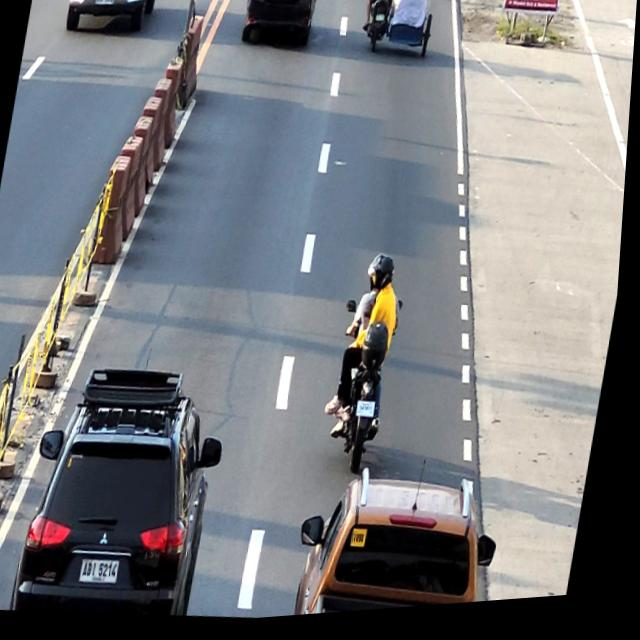Car: (19, 354, 244, 630), (293, 460, 516, 621), (240, 0, 320, 57), (61, 0, 160, 44)
License-Plate: (87, 559, 128, 586), (361, 406, 381, 425), (94, 0, 114, 7), (375, 19, 385, 27), (275, 0, 291, 1)
Motorcycle: (324, 298, 408, 484)
Tricycle: (361, 0, 439, 70)
